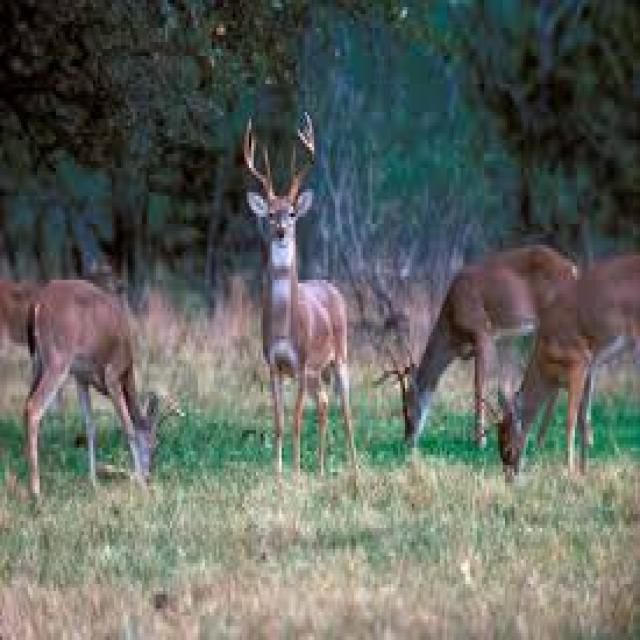Deer: (241, 109, 365, 486), (495, 259, 640, 502), (23, 274, 164, 516)
